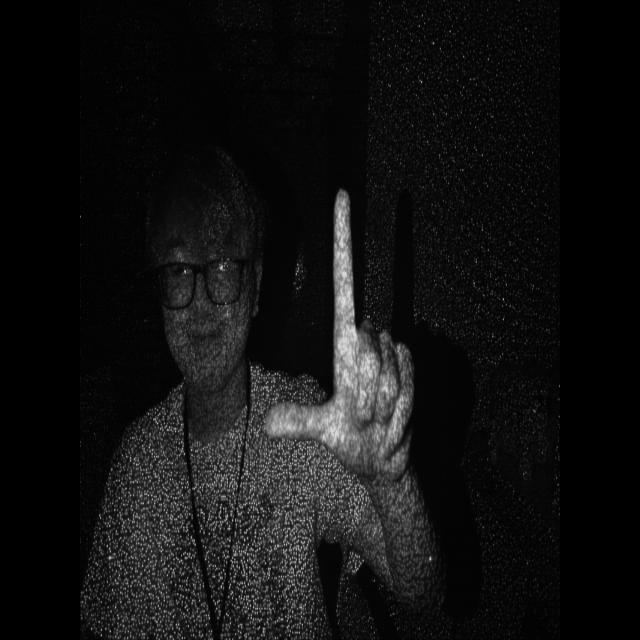L: (251, 168, 426, 492)
